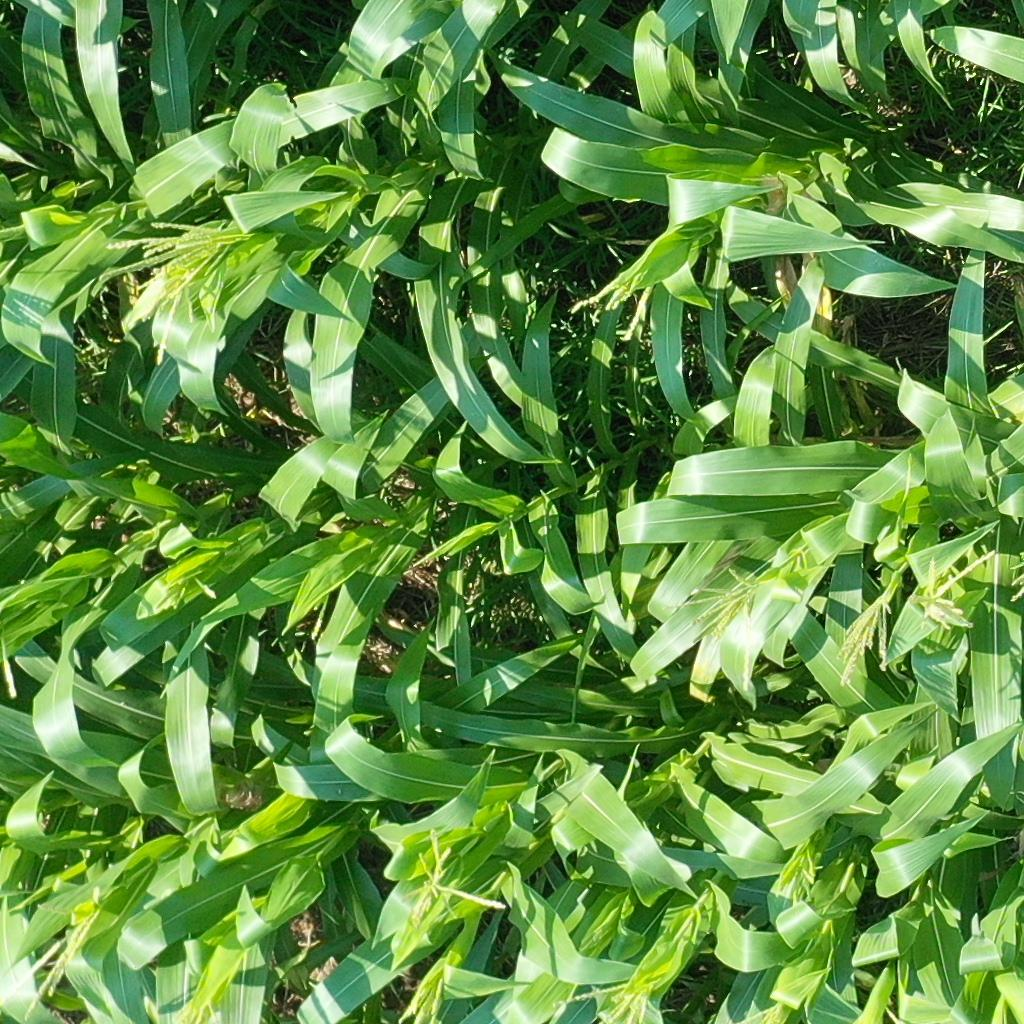Tassel: (91, 212, 230, 364), (394, 823, 513, 954), (5, 902, 108, 1021), (664, 560, 761, 648), (911, 546, 996, 640), (569, 265, 651, 348), (832, 587, 893, 688), (554, 971, 666, 1024), (772, 845, 819, 908), (397, 974, 448, 1024), (146, 576, 220, 608), (166, 996, 222, 1024), (740, 995, 783, 1024), (1012, 557, 1024, 603)
